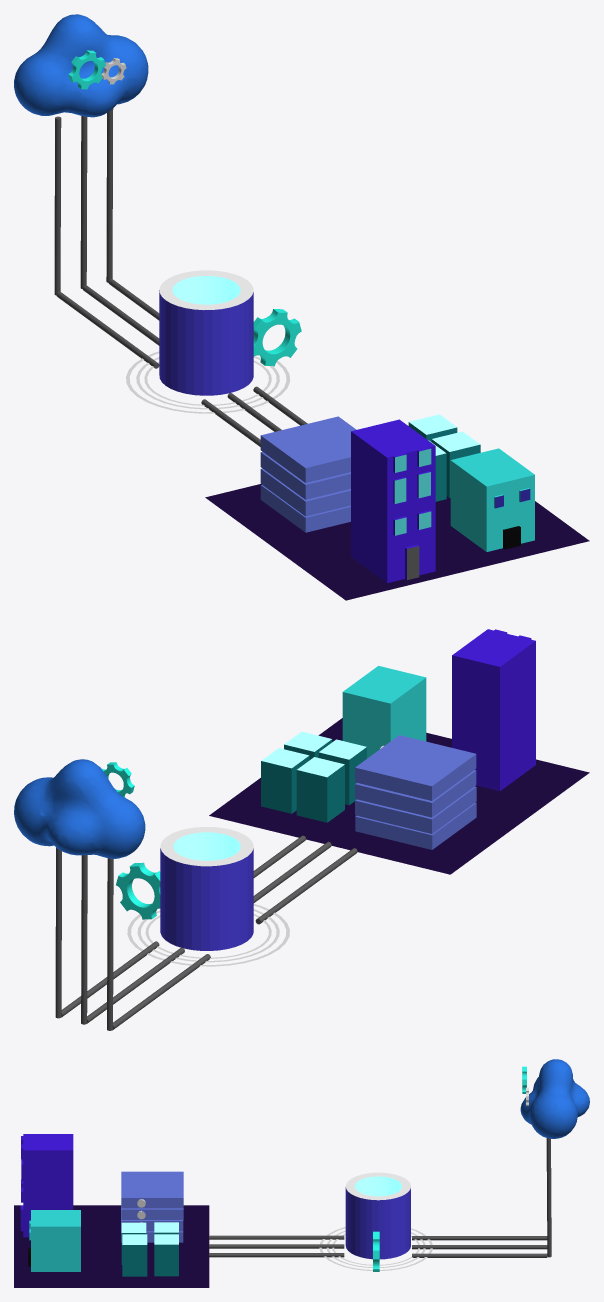
File: sin_nombre 2.fbx
3 views of the same model, one above another, from view 1: azimuth 30°, elevation 25°; view 2: azimuth 150°, elevation 25°; view 3: azimuth 270°, elevation 25° (orthographic). The views are drawn at different scales.
Visible parts, largest first — view 1: Cubo.001, Plano, Cilindro.003, Cloud, Cubo, Cubo.005, Cylinder, Cubo.002, Cubo.003, Cubo.004, Cilindro.007, Cilindro.008 (+5 smaller); view 2: Plano, Cubo.001, Cilindro.003, Cloud, Cubo, Cubo.005, Cubo.007, Cubo.008, Cubo.002, Cubo.003, Cubo.004, Cylinder (+11 smaller); view 3: Plano, Cilindro.003, Cubo.001, Cloud, Cubo, Cubo.005, Cubo.009, Cubo.008, Cubo.002, Cilindro.001, Cilindro.006, Cilindro (+8 smaller).
Boxes of the visible parts, x1,y1,x2,y2 form: Cubo.001: [351, 419, 435, 583]; Plano: [205, 484, 589, 600]; Cilindro.003: [159, 270, 253, 395]; Cloud: [14, 14, 148, 117]; Cubo: [450, 448, 534, 551]; Cubo.005: [260, 416, 356, 482]; Cylinder: [253, 309, 301, 366]; Cubo.002: [260, 451, 350, 499]; Cubo.003: [260, 468, 350, 516]; Cubo.004: [260, 485, 350, 532]; Cilindro.007: [54, 116, 61, 295]; Cilindro.008: [80, 116, 87, 288]; Plano: [209, 718, 589, 874]; Cubo.001: [452, 629, 535, 791]; Cilindro.003: [160, 827, 253, 950]; Cloud: [14, 759, 145, 858]; Cubo: [342, 666, 426, 758]; Cubo.005: [355, 735, 476, 800]; Cubo.007: [296, 757, 344, 822]; Cubo.008: [261, 748, 309, 813]; Cubo.002: [355, 770, 476, 817]; Cubo.003: [355, 786, 476, 833]; Cubo.004: [355, 802, 476, 849]; Cylinder: [116, 862, 160, 919]; Plano: [14, 1205, 209, 1287]; Cilindro.003: [345, 1172, 410, 1259]; Cubo.001: [20, 1134, 73, 1237]; Cloud: [520, 1059, 589, 1138]; Cubo: [28, 1210, 80, 1271]; Cubo.005: [121, 1171, 183, 1208]; Cubo.009: [122, 1234, 147, 1276]; Cubo.008: [154, 1234, 178, 1276]; Cubo.002: [121, 1208, 183, 1219]; Cilindro.001: [209, 1244, 344, 1248]; Cilindro.006: [412, 1253, 547, 1257]; Cilindro: [209, 1235, 344, 1239].
Size of the model in its own units: 502 by 532 by 1482.
